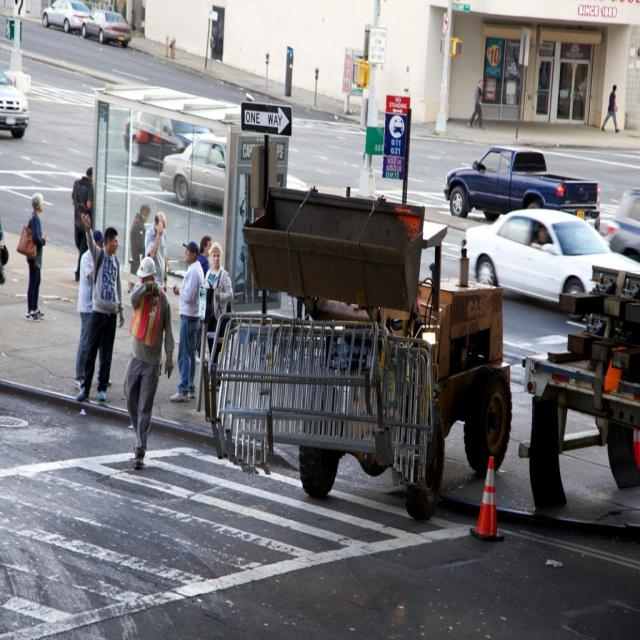car: (79, 5, 129, 39)
